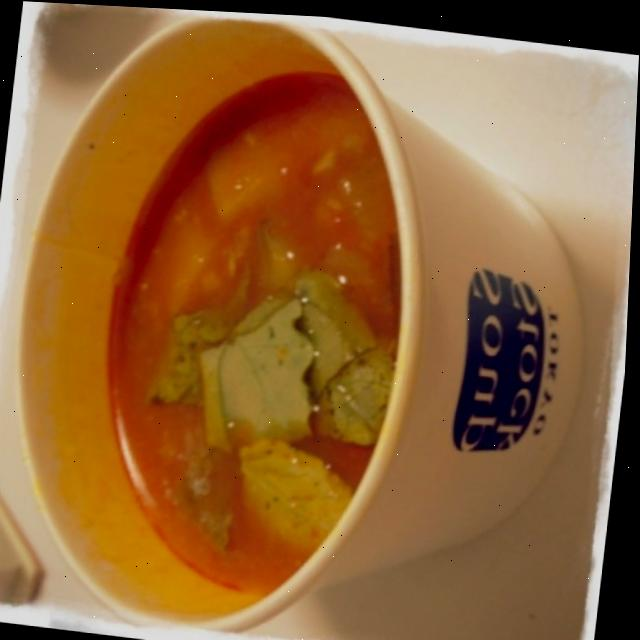汤锅炖物: (0, 13, 607, 640)
